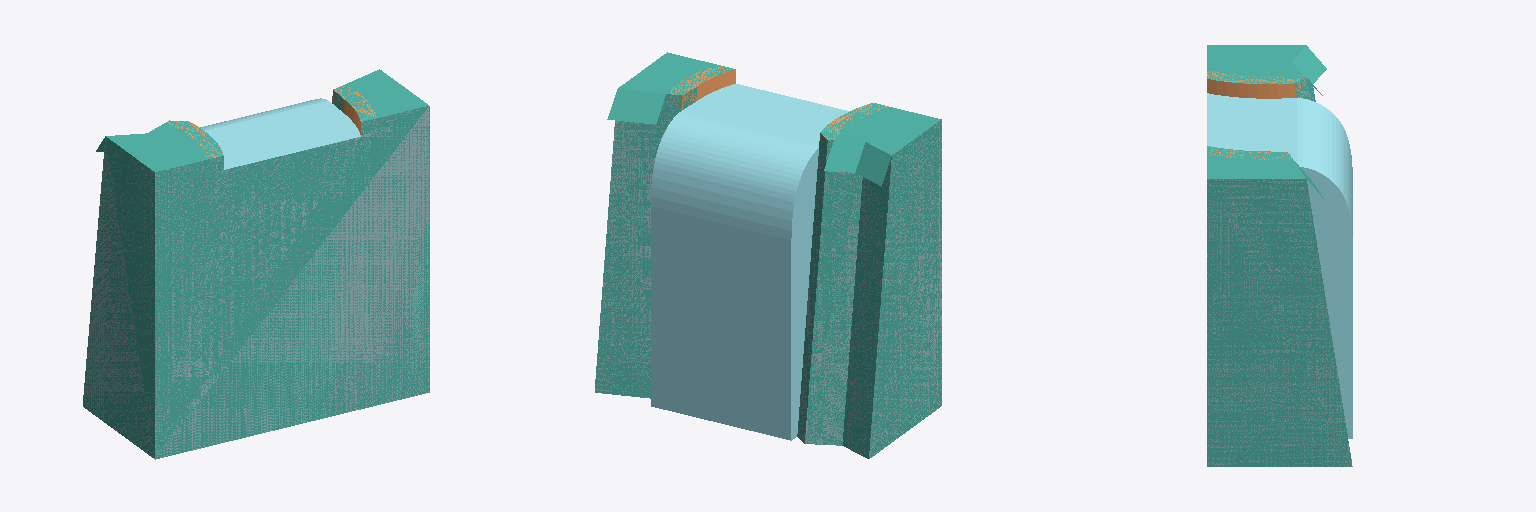
Rendered from cliffGrey_waterfallTop.obj.
3 renders of one model, left to right at view 1: azimuth 30°, elevation 25°; view 2: azimuth 150°, elevation 25°; view 3: azimuth 270°, elevation 25°, orthographic.
Parts seen in each view (by area): view 1: cliffGrey_waterfallTop; view 2: cliffGrey_waterfallTop; view 3: cliffGrey_waterfallTop.
Boxes of the visible parts, box(x1,y1,x2,y2) form: cliffGrey_waterfallTop: box(83, 69, 429, 459); cliffGrey_waterfallTop: box(595, 52, 941, 458); cliffGrey_waterfallTop: box(1207, 45, 1352, 466).
Bounding box in the file's own units: 10 × 10 × 4.58.